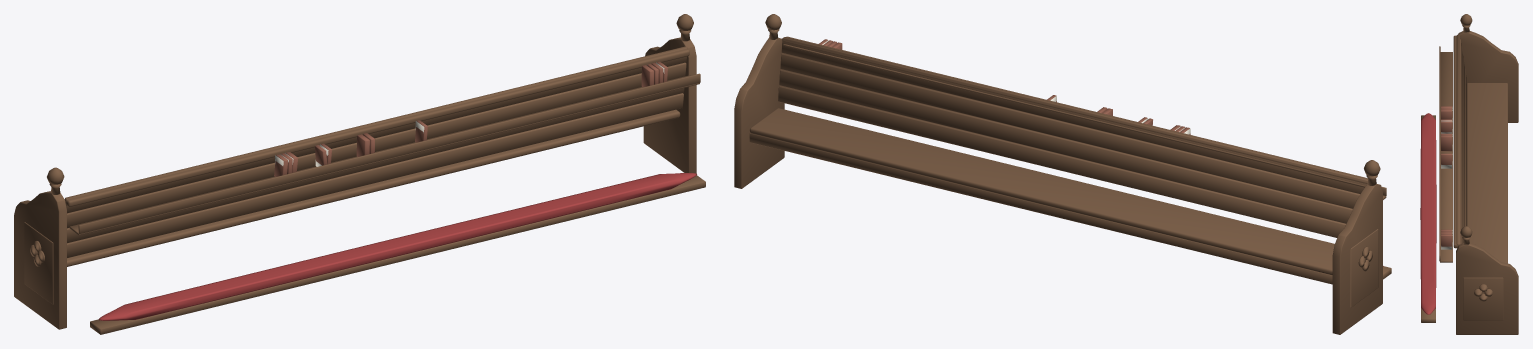
File: pew.glb
3 views of the same model, side by side, from view 1: azimuth 30°, elevation 25°; view 2: azimuth 150°, elevation 25°; view 3: azimuth 270°, elevation 25° (orthographic). The views are drawn at different scales.
Visible parts, largest first — view 1: pew; view 2: pew; view 3: pew.
Boxes of the visible parts, <box> form: pew: <box>14,14,705,334</box>; pew: <box>734,14,1391,334</box>; pew: <box>1420,14,1518,334</box>.
Bounding box in the file's own units: 5.43 × 1.25 × 1.03.
